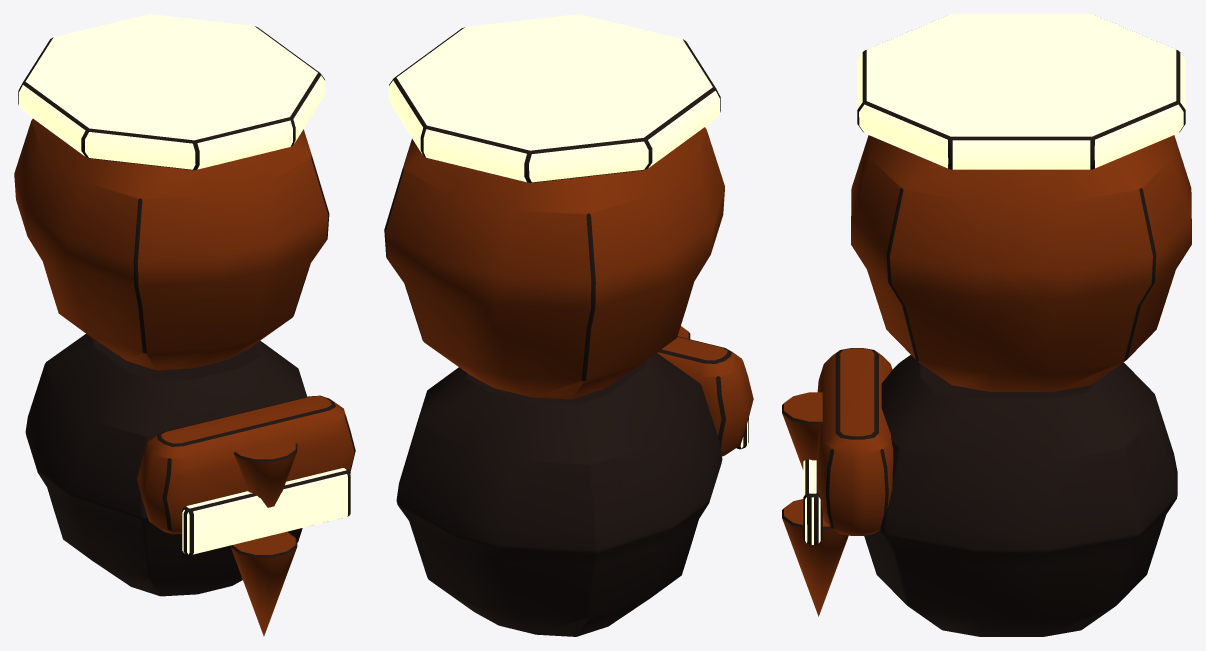
The model's file is Arma_NucleoBrasaViva.fbx.
The picture shows the model from 3 angles, left to right: view 1: azimuth 30°, elevation 25°; view 2: azimuth 150°, elevation 25°; view 3: azimuth 270°, elevation 25°; orthographic projection. The views are drawn at different scales.
Parts seen in each view (by area): view 1: Piece; view 2: Piece; view 3: Piece.
Part boxes in pixels (left/top/right/bottom): Piece: left=14, top=14, right=355, bottom=636; Piece: left=384, top=14, right=753, bottom=636; Piece: left=782, top=14, right=1191, bottom=636.
Size of the model in its own units: 0.1654 by 0.3094 by 0.2121.
